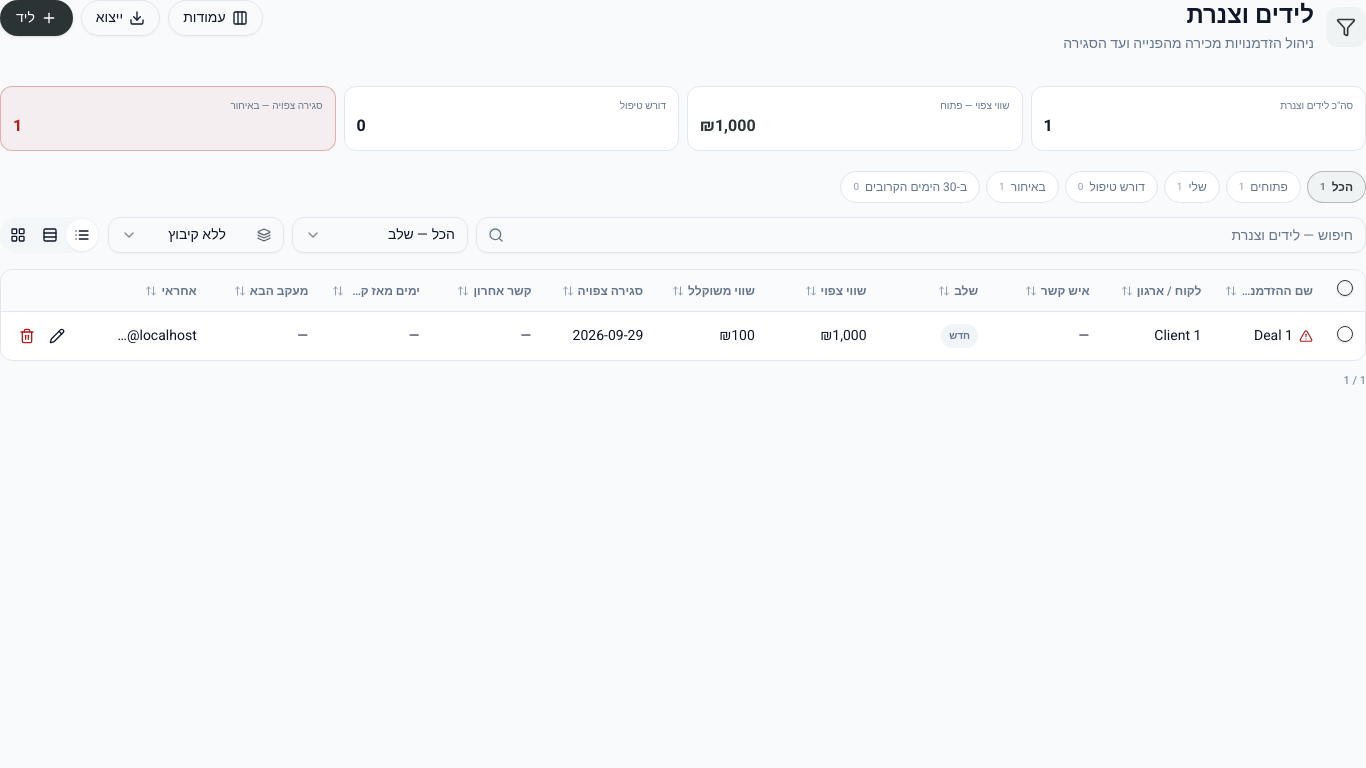
Test: inline editing › still opens the record when the row is clicked away from a value
Expected: the text "Deal 1" is shown, [1254,326,1293,346]
Click the row that starts with "Deal 1". click: {"x": 737, "y": 336}
box: [1,312,1365,360]
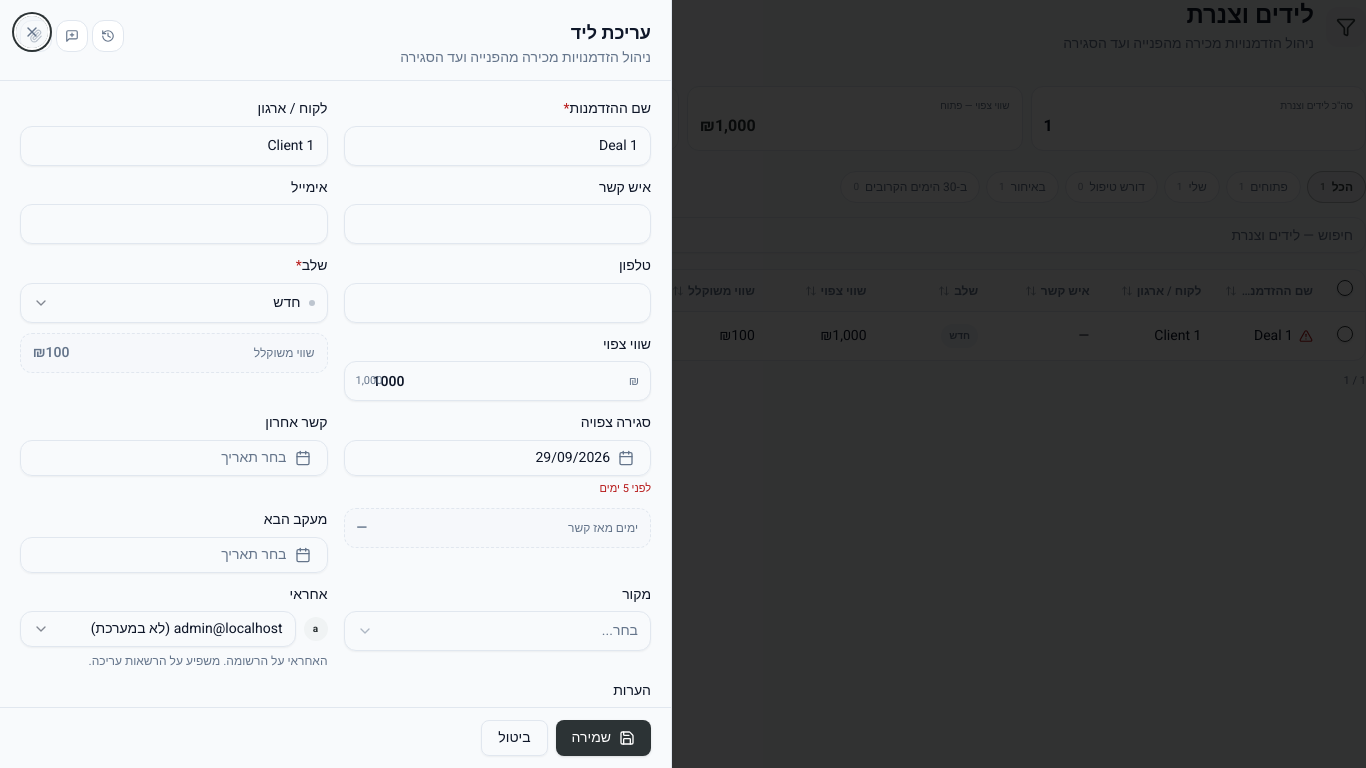
Expected: the dialog is shown, [0,0,672,767]
